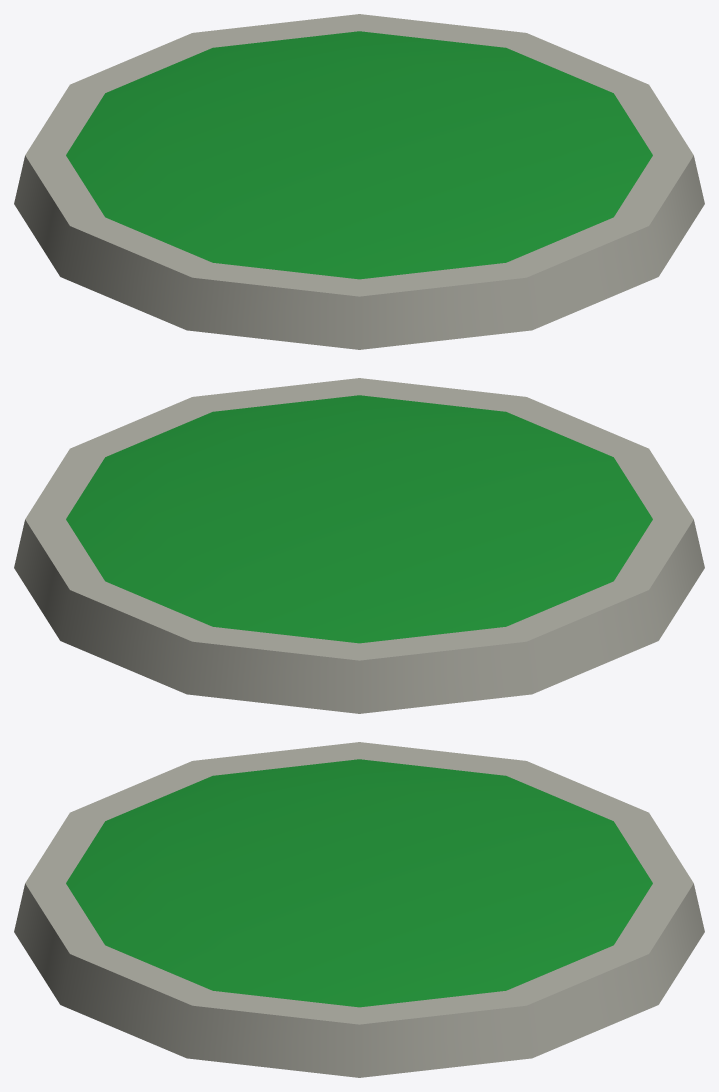
File: FlowerPlace_6_A.glb
3 views of the same model, one above another, from view 1: azimuth 30°, elevation 25°; view 2: azimuth 150°, elevation 25°; view 3: azimuth 270°, elevation 25° (orthographic).
Visible parts, largest first — view 1: FlowerPlace_6_A; view 2: FlowerPlace_6_A; view 3: FlowerPlace_6_A.
Part boxes in pixels (box(x1,y1,x2,y2)): FlowerPlace_6_A: box(14, 14, 704, 349); FlowerPlace_6_A: box(14, 378, 704, 713); FlowerPlace_6_A: box(14, 742, 704, 1077).
Bounding box in the file's own units: 2.06 × 0.1912 × 2.06.
1 material, 1 textured.
